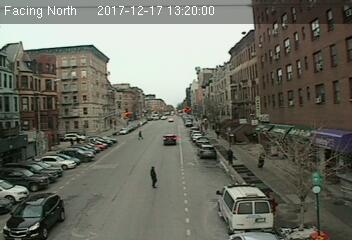car: (2, 191, 67, 240), (199, 145, 216, 159), (161, 133, 177, 145)
pedestrian: (147, 164, 160, 191), (137, 127, 143, 141)
police: (217, 181, 275, 233)
